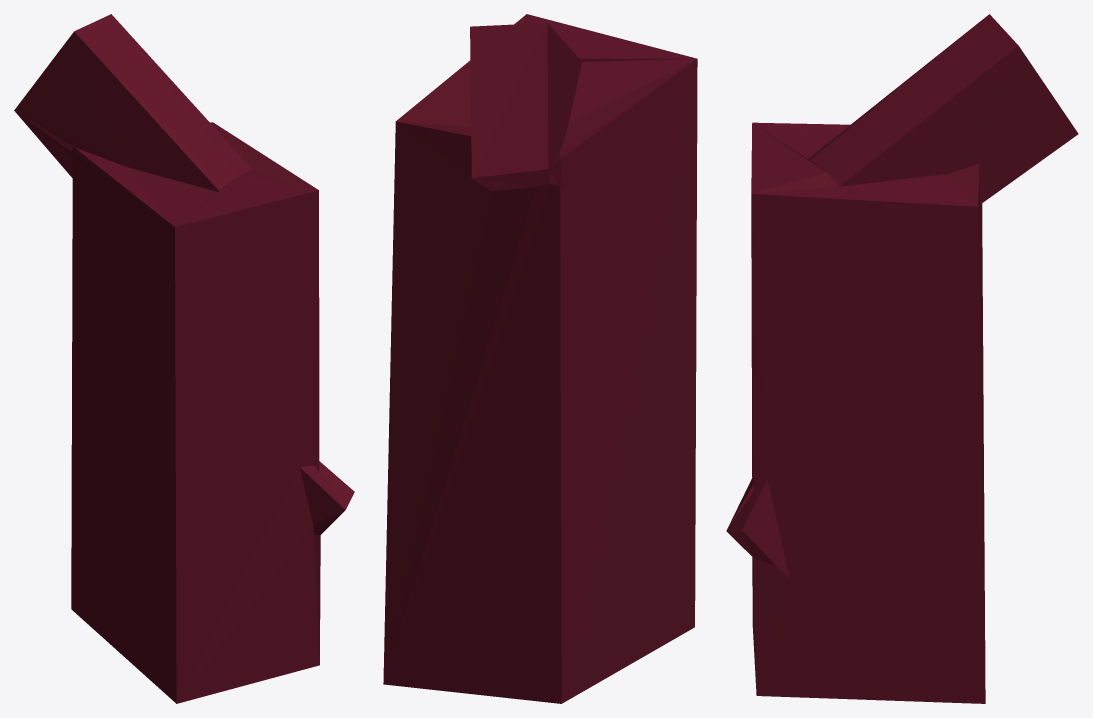
The picture shows the model from 3 angles, left to right: view 1: azimuth 30°, elevation 25°; view 2: azimuth 150°, elevation 25°; view 3: azimuth 270°, elevation 25°; orthographic projection. The views are drawn at different scales.
Parts seen in each view (by area): view 1: 605_Cube.2434; view 2: 605_Cube.2434; view 3: 605_Cube.2434.
Part boxes in pixels (box(x1,y1,x2,y2)): 605_Cube.2434: box(14, 14, 354, 703); 605_Cube.2434: box(383, 14, 697, 703); 605_Cube.2434: box(726, 14, 1078, 703).
Bounding box in the file's own units: 5.21 × 15.4 × 7.86.
